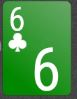Clover: (8, 33, 27, 52)
